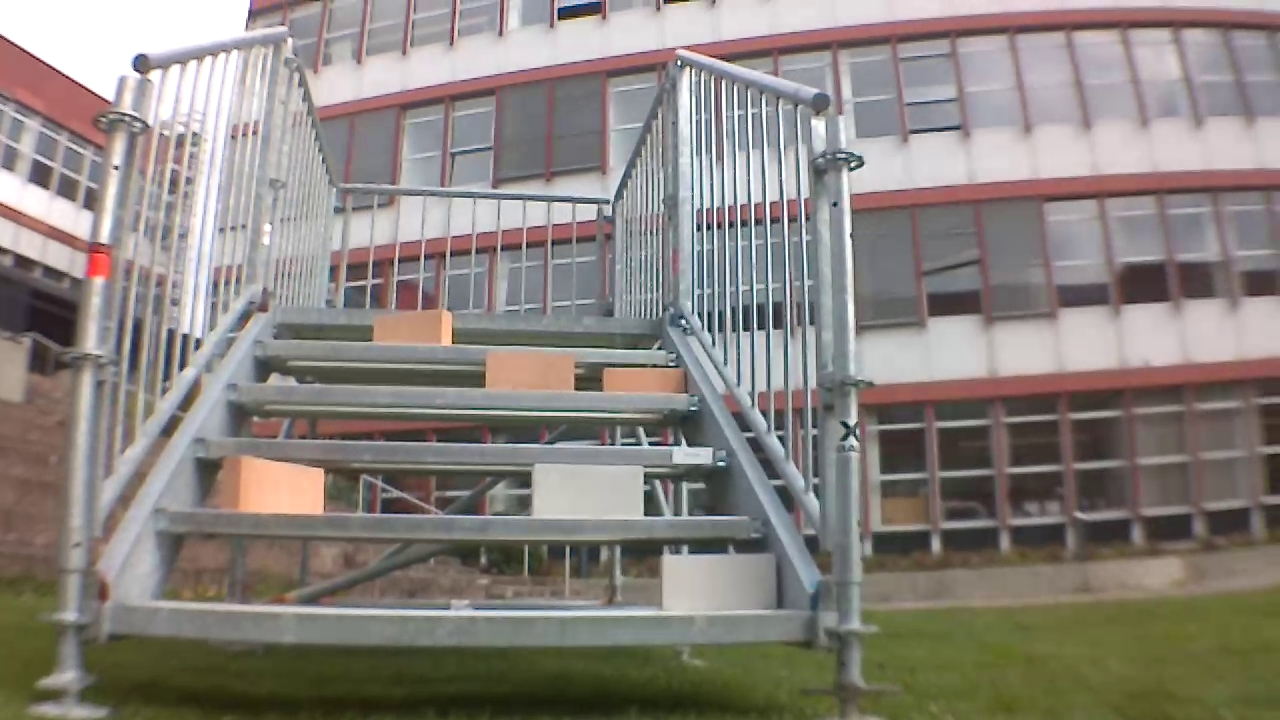brick: (662, 553, 776, 609), (221, 455, 324, 514), (532, 462, 642, 517), (485, 351, 575, 391), (372, 310, 451, 345), (602, 368, 685, 394)
edge: (109, 599, 810, 640), (154, 508, 765, 539), (193, 436, 729, 465), (225, 381, 699, 409), (254, 340, 676, 365), (275, 306, 663, 332)
stairs: (28, 27, 900, 719)
steps: (100, 302, 815, 649)
